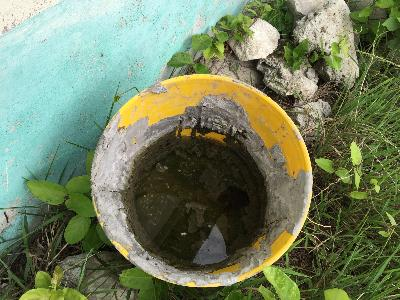bucket: (86, 73, 316, 293)
